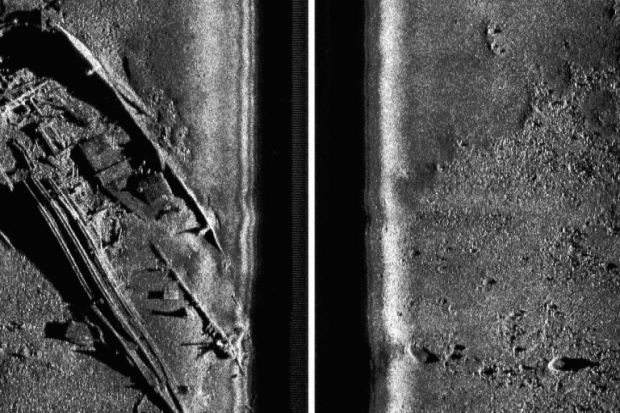ship: (4, 22, 254, 412)
